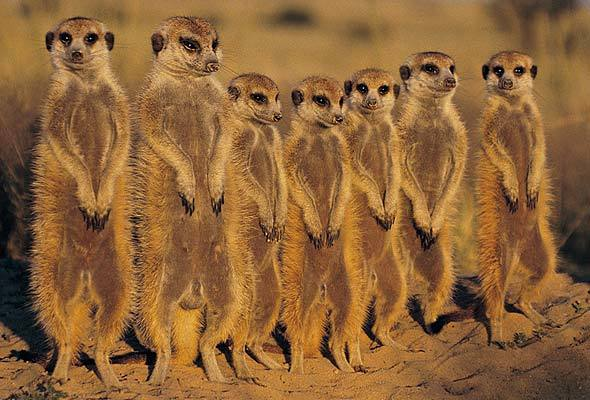meerkat: (33, 2, 150, 382), (476, 42, 576, 367), (384, 41, 459, 358), (217, 64, 275, 400)
